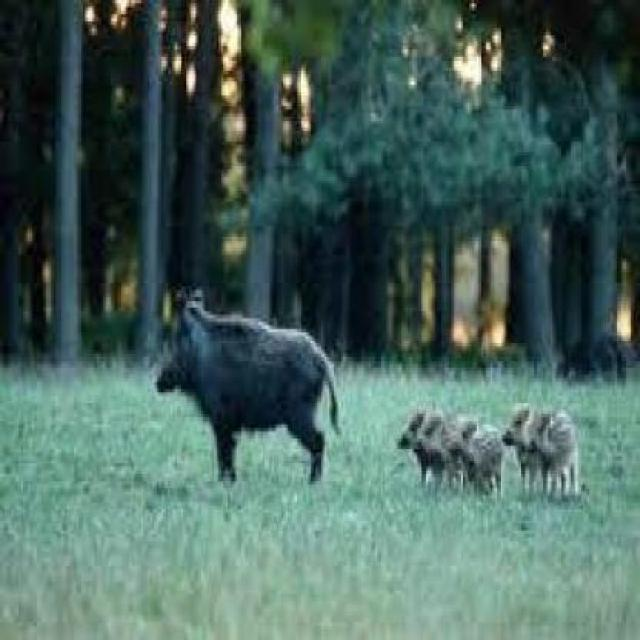wildboar: (154, 287, 343, 488), (522, 407, 584, 501), (412, 410, 479, 493), (397, 408, 461, 488), (442, 421, 507, 499), (502, 400, 552, 498)
